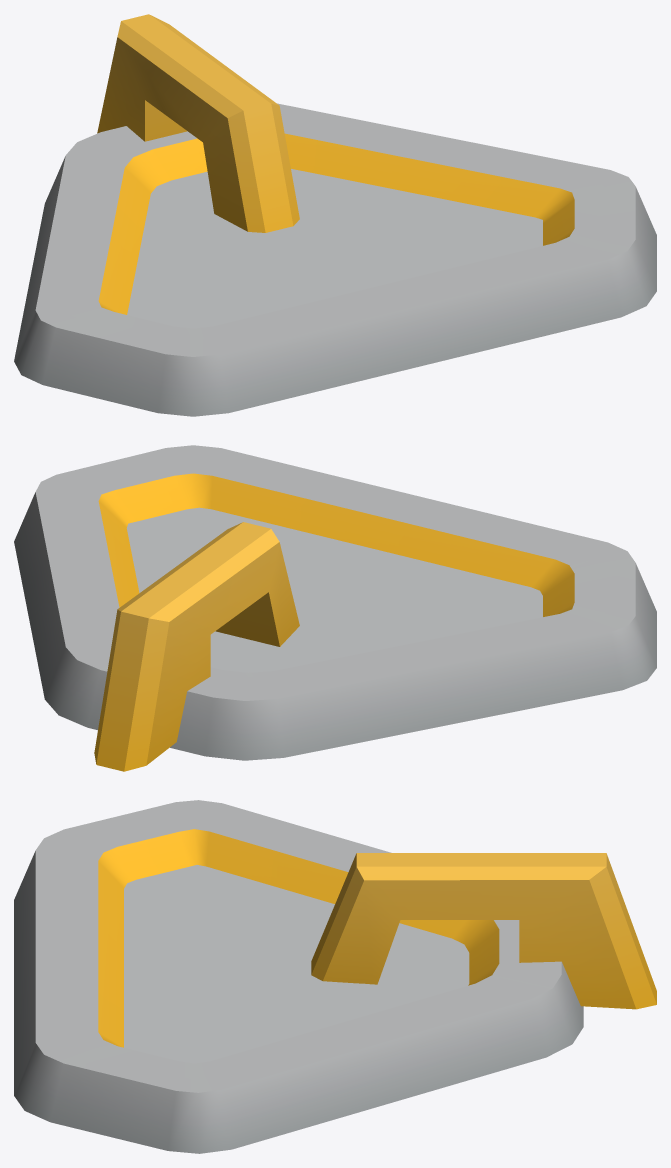
Rendered from Hatch_009_door_001.fbx.
3 renders of one model, top to bottom at view 1: azimuth 30°, elevation 25°; view 2: azimuth 150°, elevation 25°; view 3: azimuth 270°, elevation 25°, orthographic. The views are drawn at different scales.
Parts seen in each view (by area): view 1: Hatch_009_door_001; view 2: Hatch_009_door_001; view 3: Hatch_009_door_001.
Boxes of the visible parts, bbox=[...] form: Hatch_009_door_001: bbox=[14, 14, 656, 416]; Hatch_009_door_001: bbox=[14, 445, 656, 771]; Hatch_009_door_001: bbox=[14, 800, 656, 1153].
Bounding box in the file's own units: 82.57 × 71.95 × 17.06.
